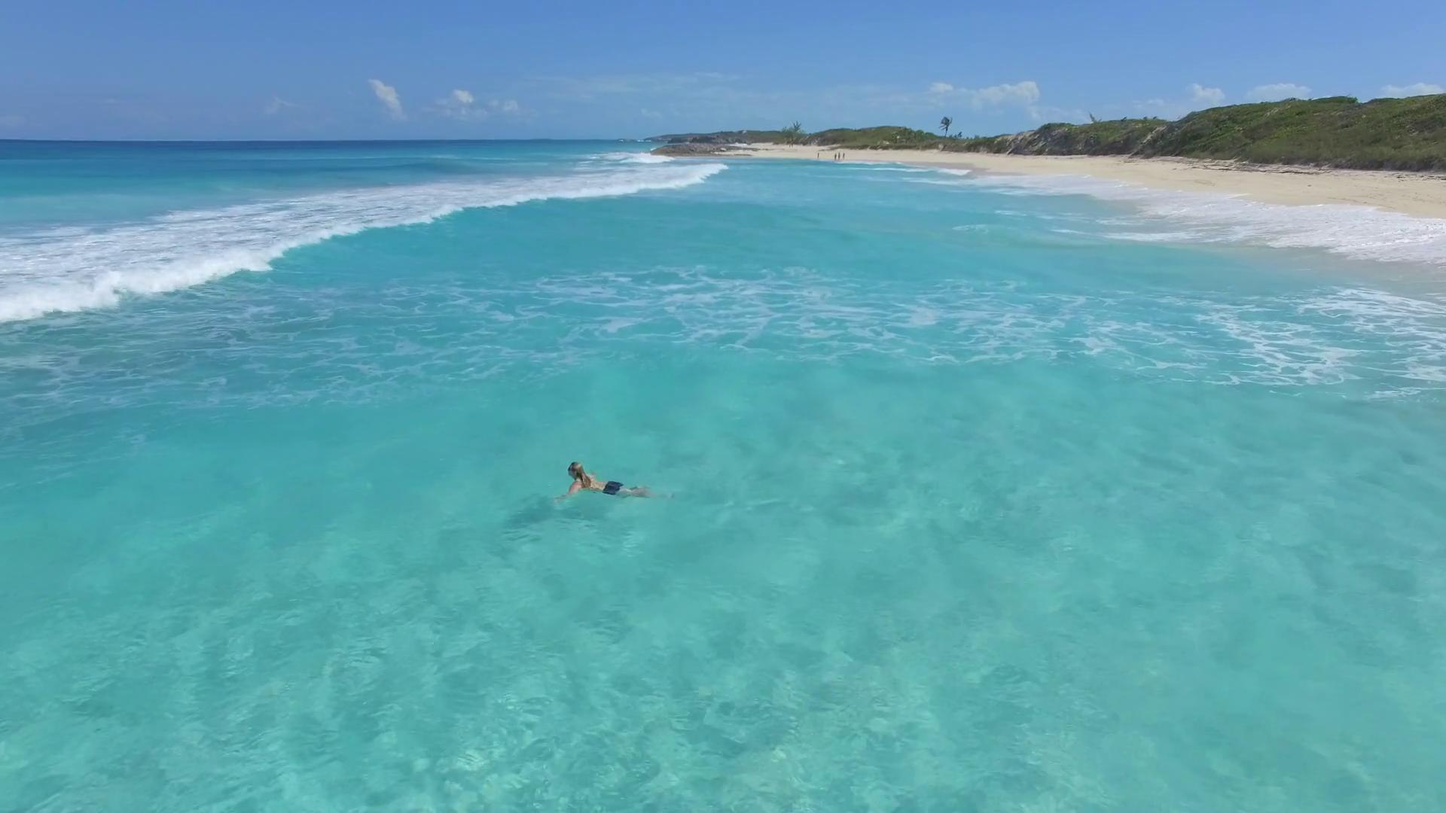swimmer: (560, 454, 653, 502)
